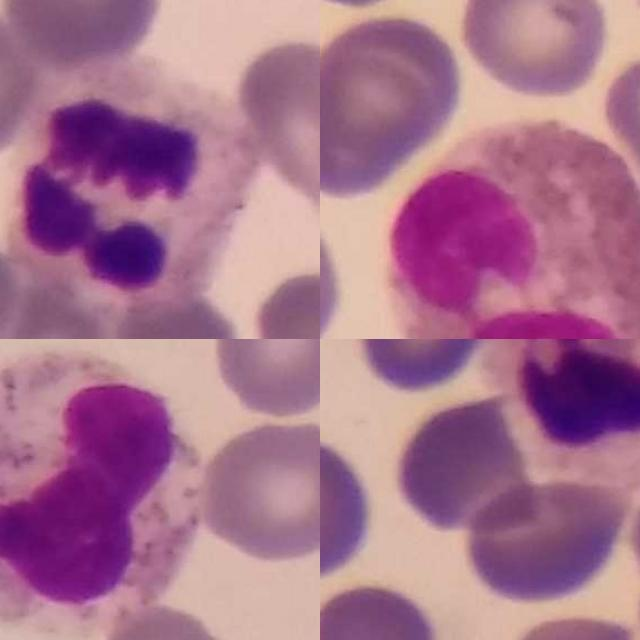Eosinophil: (383, 119, 640, 339)
Neutrophil: (15, 57, 259, 306), (0, 357, 202, 629), (480, 339, 640, 492)
